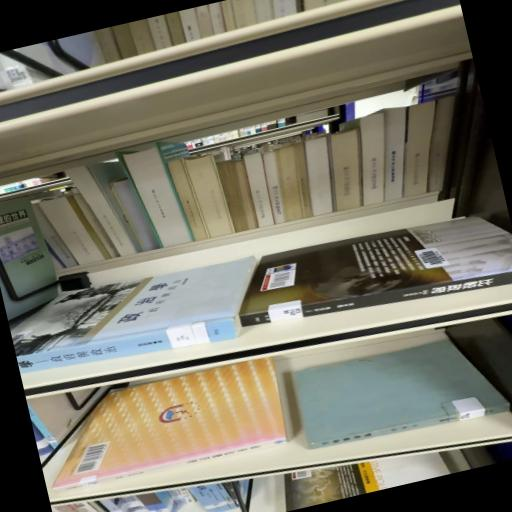flat: (53, 358, 287, 492), (240, 217, 512, 326), (10, 256, 257, 374), (293, 339, 510, 449)
